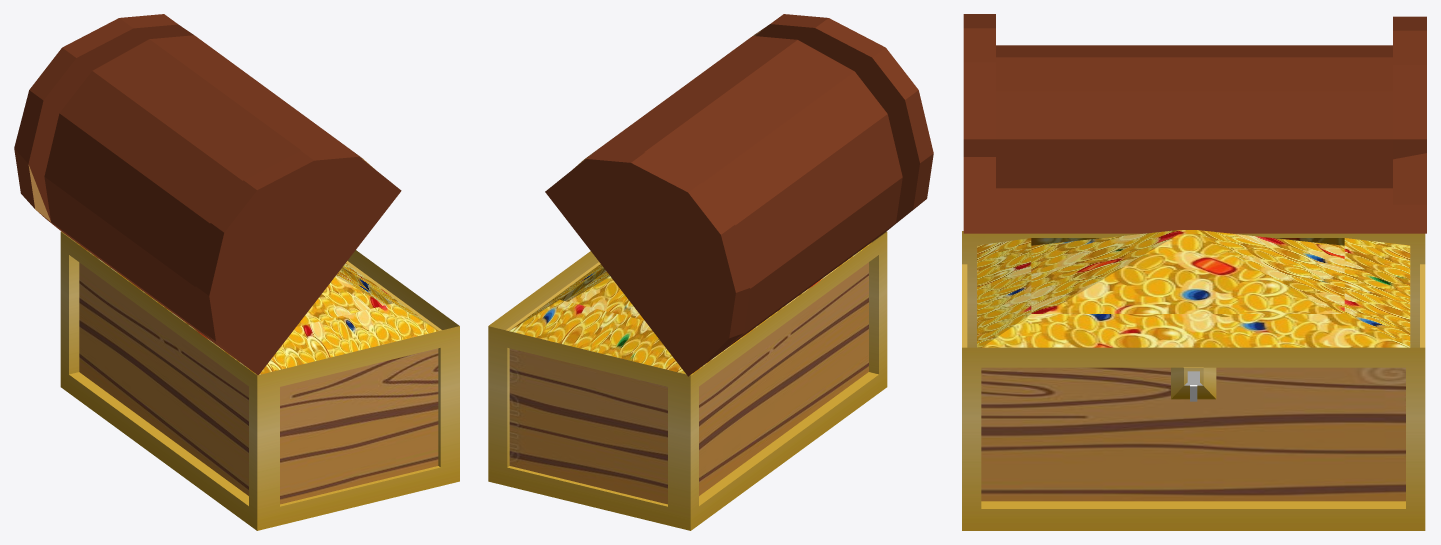
Rendered from CHEST.glb.
3 views of the same model, side by side, from view 1: azimuth 30°, elevation 25°; view 2: azimuth 150°, elevation 25°; view 3: azimuth 270°, elevation 25° (orthographic). The views are drawn at different scales.
Visible parts, largest first — view 1: wood.002; view 2: wood.002; view 3: wood.002.
Boxes of the visible parts, x1,y1,x2,y2 form: wood.002: [14, 14, 459, 530]; wood.002: [488, 14, 933, 530]; wood.002: [962, 14, 1426, 530].
Bounding box in the file's own units: 2.47 × 3.35 × 3.37.
6 materials, 3 textured.
